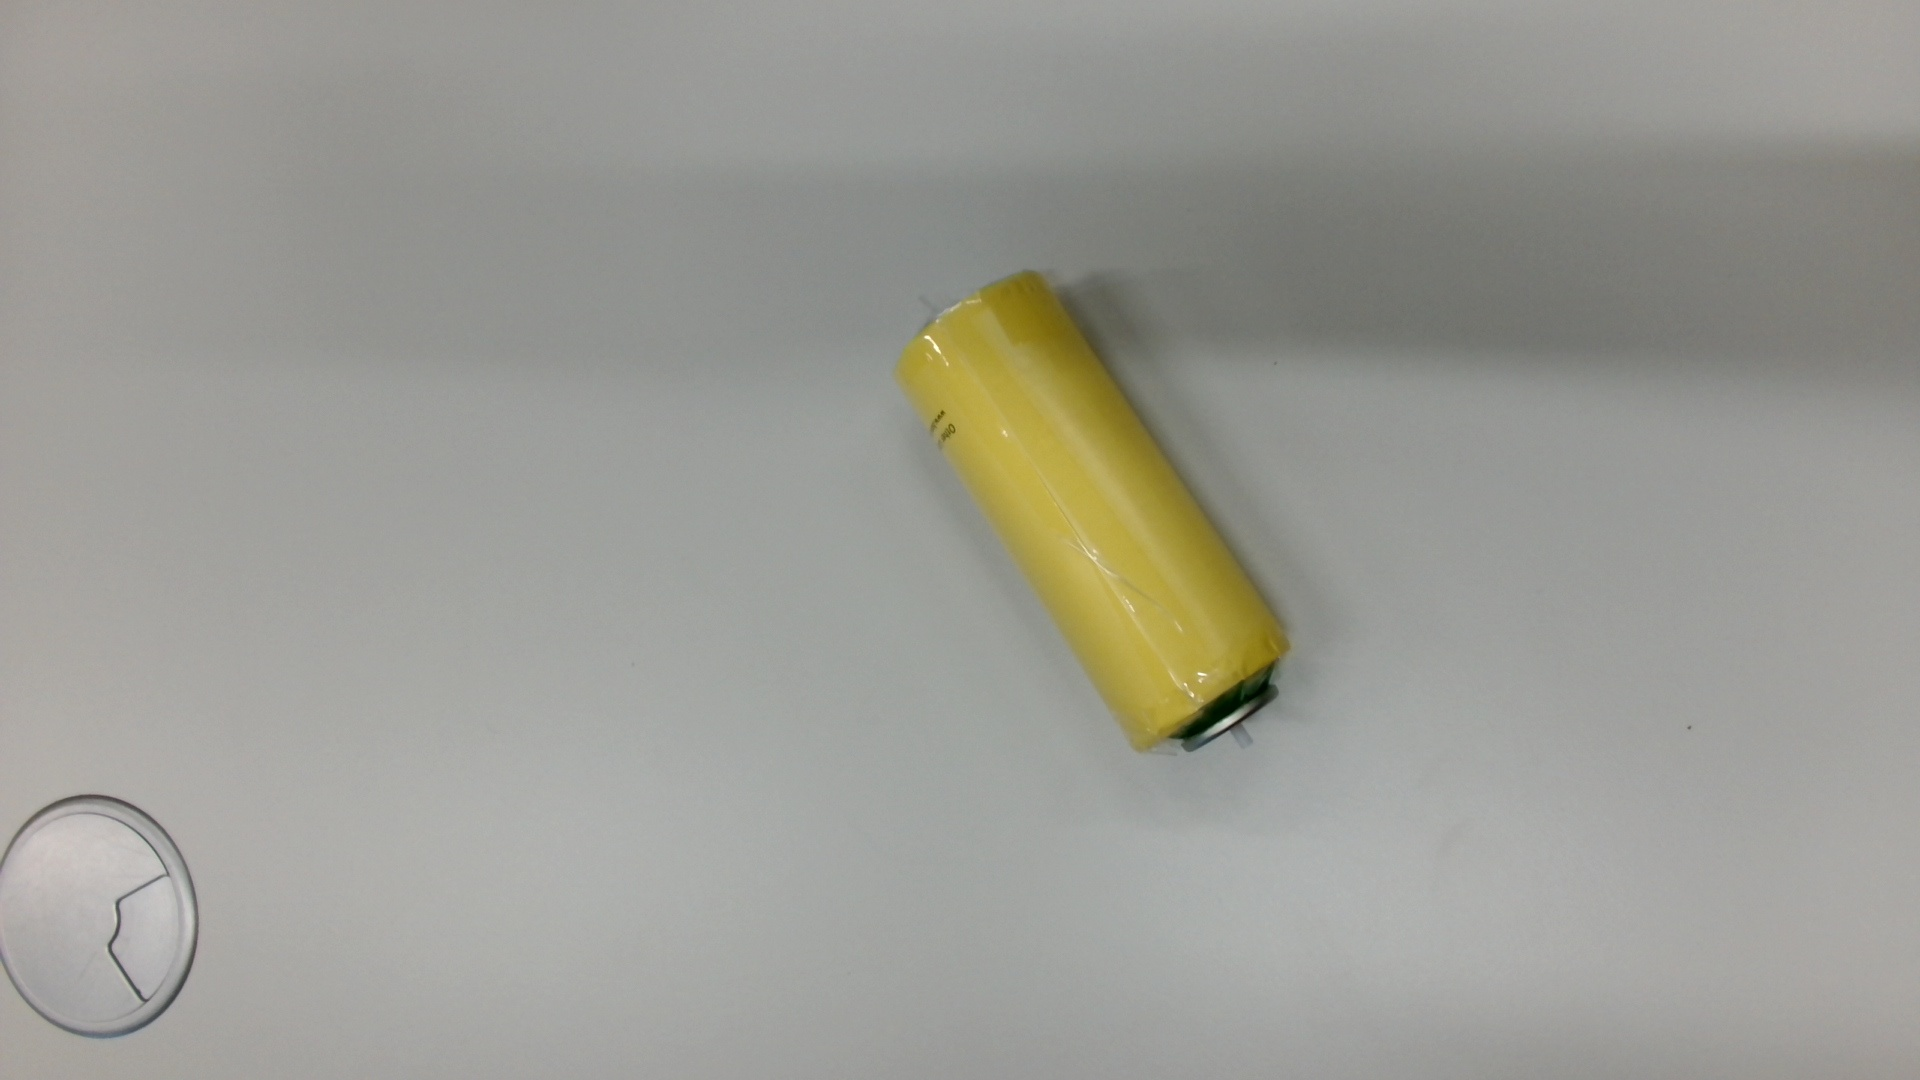Cylinder: (887, 260, 1305, 775)
